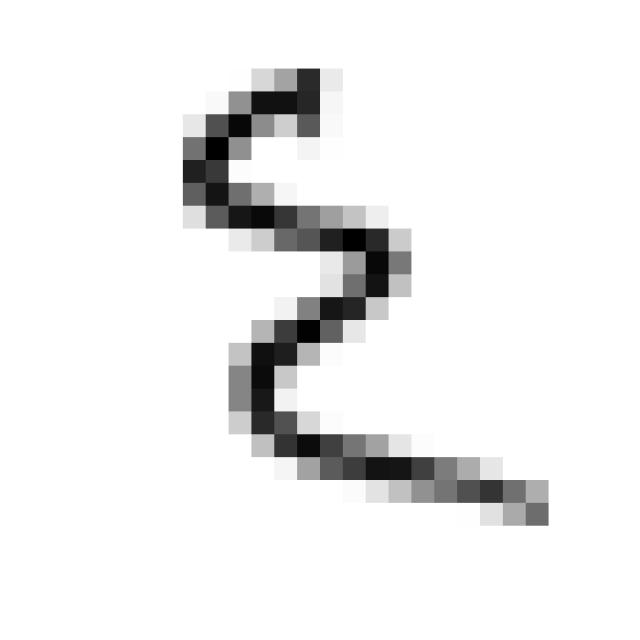4 -four-: (164, 53, 564, 534)
